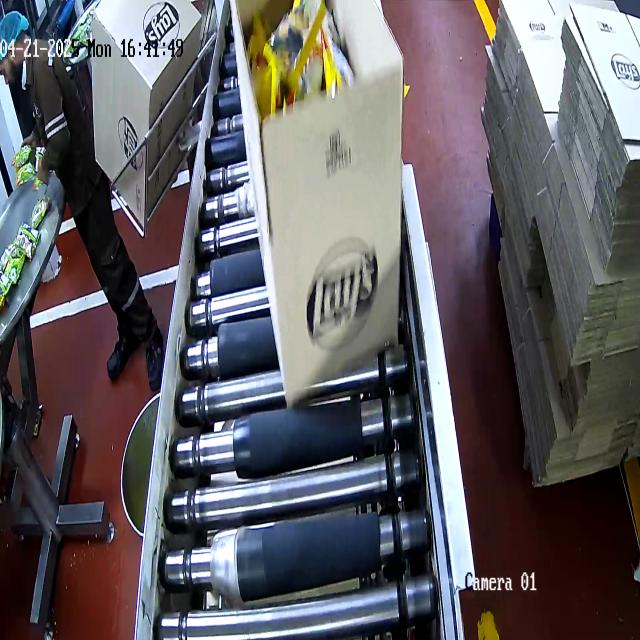SALTED: (243, 20, 350, 105)
